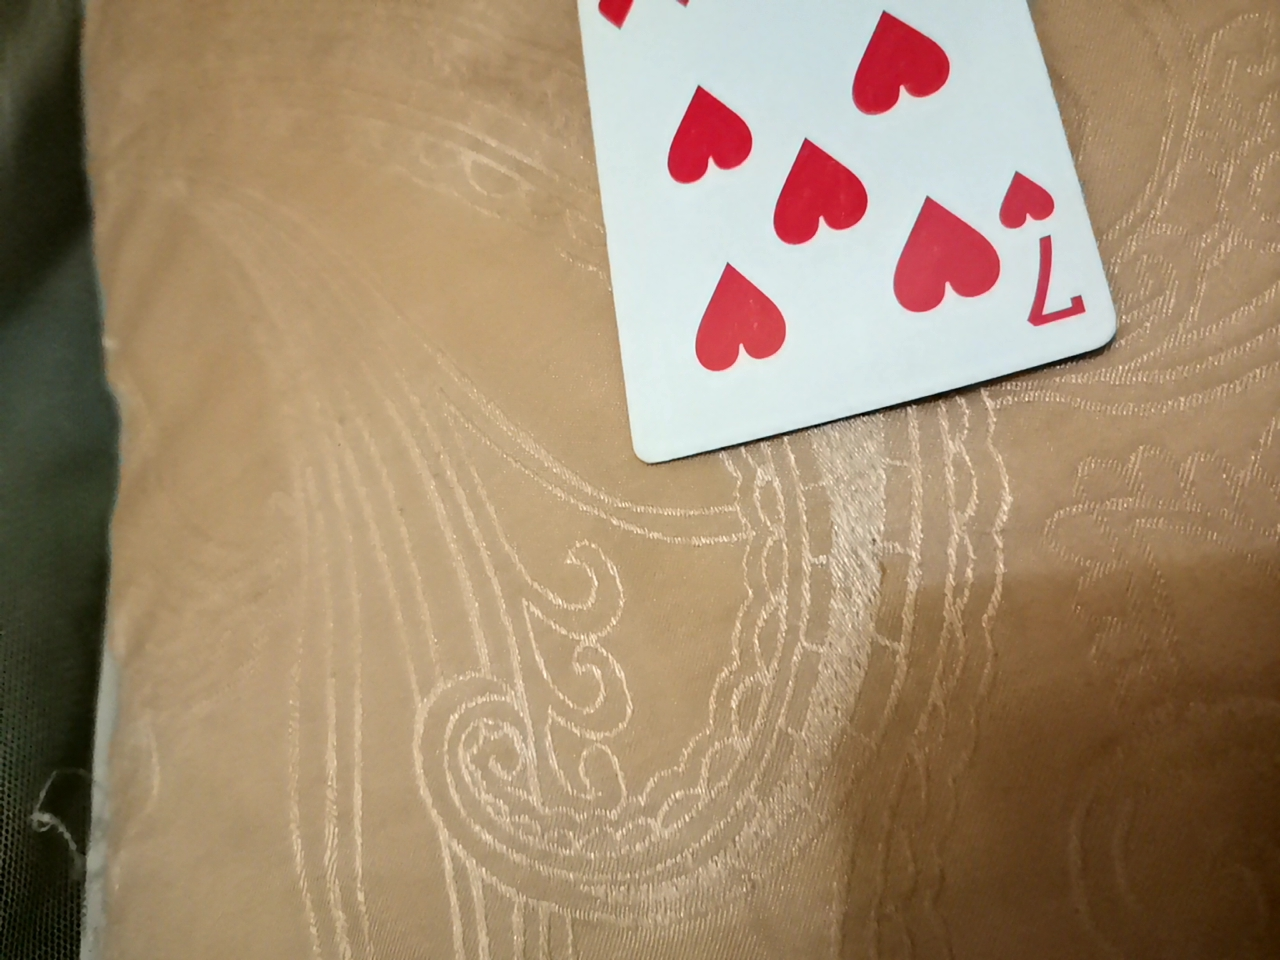hx 7: (567, 0, 1103, 477)
